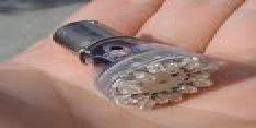LED: (108, 55, 222, 113)
